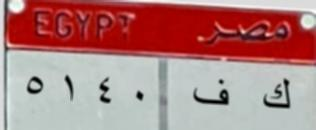0: (128, 82, 159, 112)
1: (57, 67, 86, 110)
4: (91, 68, 120, 109)
5: (19, 74, 50, 103)
faa: (184, 74, 237, 112)
kaaf: (257, 73, 294, 116)
